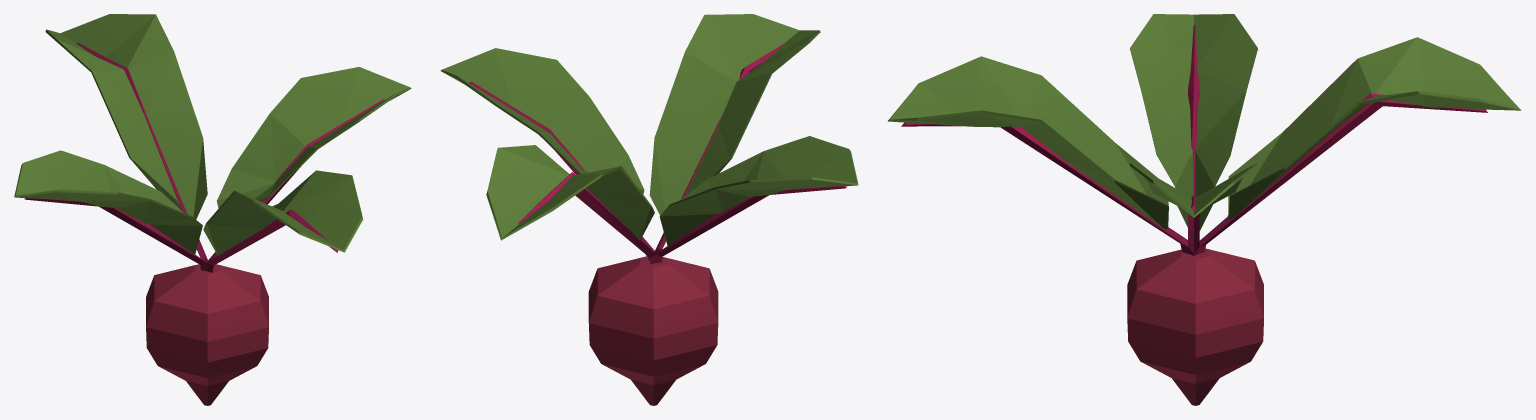
File: Crop_Beetroot_01.obj
3 views of the same model, side by side, from view 1: azimuth 30°, elevation 25°; view 2: azimuth 150°, elevation 25°; view 3: azimuth 270°, elevation 25° (orthographic). The views are drawn at different scales.
Visible parts, largest first — view 1: Crop_Beetroot_01; view 2: Crop_Beetroot_01; view 3: Crop_Beetroot_01.
Part boxes in pixels (box(x1,y1,x2,y2)): Crop_Beetroot_01: box(14, 14, 411, 405); Crop_Beetroot_01: box(440, 14, 858, 405); Crop_Beetroot_01: box(887, 14, 1521, 405).
Bounding box in the file's own units: 0.5661 × 0.4149 × 0.7035.
Materials: 1 (1 with a texture image).
